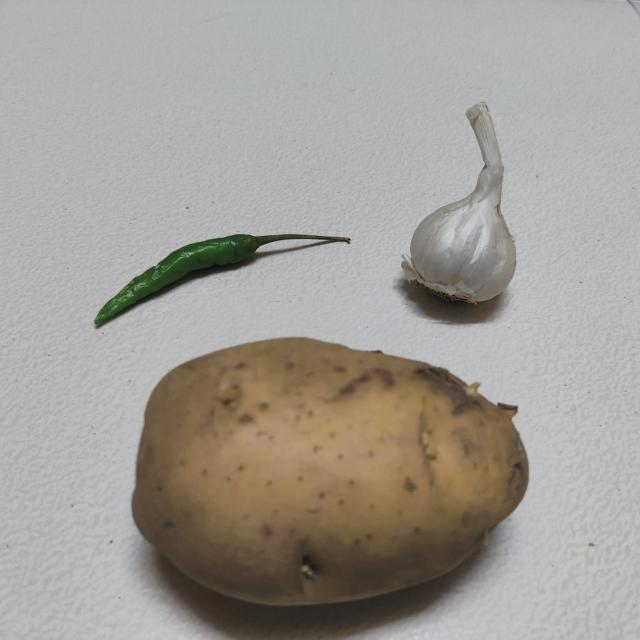Organik: (130, 333, 550, 618), (69, 213, 358, 333), (399, 97, 528, 323)
